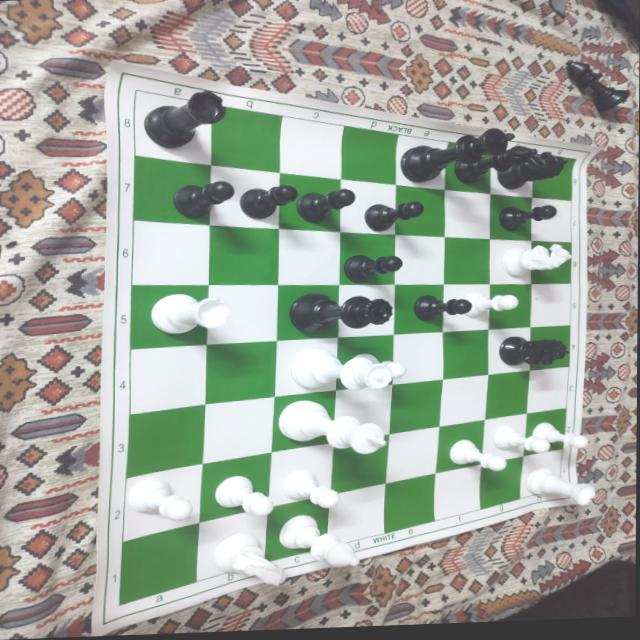board: (92, 65, 599, 630)
square: (120, 522, 199, 605), (123, 463, 203, 541), (126, 403, 206, 478), (134, 90, 212, 165), (130, 344, 207, 414), (134, 155, 211, 224), (196, 507, 267, 581), (199, 452, 271, 523), (132, 219, 209, 284), (131, 284, 208, 349), (211, 103, 282, 172), (203, 396, 275, 463), (205, 340, 277, 403), (264, 494, 330, 562), (210, 164, 279, 228), (267, 442, 334, 507), (208, 224, 279, 284), (207, 284, 278, 344), (280, 115, 344, 178), (273, 390, 336, 451), (274, 337, 338, 396), (327, 483, 386, 547), (279, 172, 341, 231), (330, 433, 389, 494), (279, 228, 341, 284), (276, 285, 339, 340), (341, 125, 399, 184), (334, 384, 393, 442), (335, 334, 394, 389), (340, 179, 396, 234), (386, 425, 439, 483), (384, 473, 435, 533), (339, 231, 396, 284), (338, 284, 395, 337), (389, 379, 443, 433), (396, 134, 449, 189), (392, 331, 443, 384), (434, 464, 481, 520), (396, 184, 445, 237), (436, 419, 484, 473), (440, 374, 488, 426), (395, 234, 444, 284), (394, 284, 443, 334), (481, 413, 528, 464), (446, 141, 491, 193), (442, 283, 490, 331), (444, 189, 491, 238), (443, 329, 489, 378), (444, 236, 490, 284), (485, 370, 530, 419), (481, 456, 523, 508), (520, 448, 563, 498), (490, 150, 535, 197), (532, 153, 576, 200), (488, 326, 531, 374), (524, 408, 567, 455), (489, 193, 532, 240), (527, 366, 569, 413), (489, 283, 531, 329), (490, 238, 532, 284), (531, 197, 572, 242), (530, 324, 570, 370), (531, 240, 572, 284), (531, 283, 571, 327)
